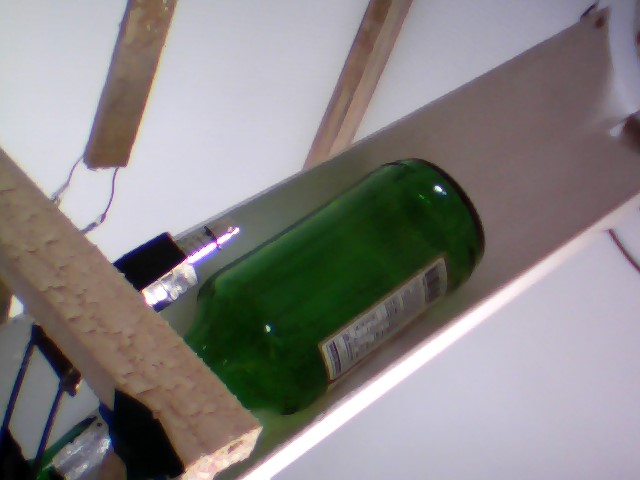vidrio: (178, 149, 488, 422)
